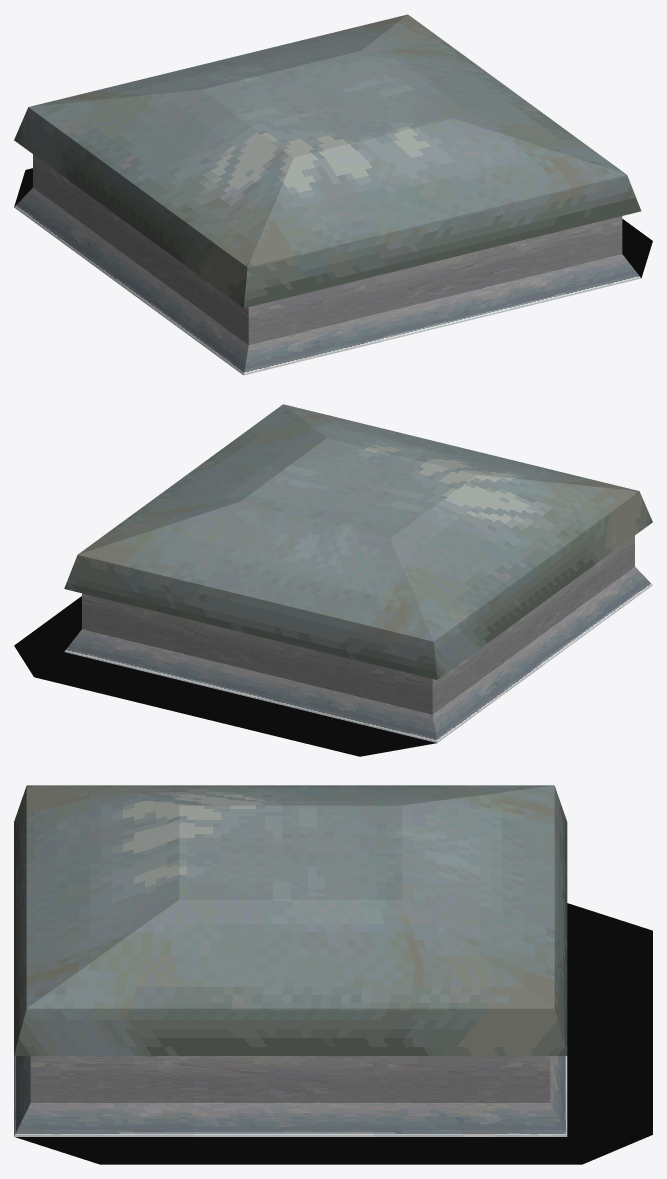
File: roofstuff14.obj
The picture shows the model from 3 angles, top to bottom: view 1: azimuth 30°, elevation 25°; view 2: azimuth 150°, elevation 25°; view 3: azimuth 270°, elevation 25°; orthographic projection. The views are drawn at different scales.
Visible parts, largest first — view 1: roofstuff14; view 2: roofstuff14; view 3: roofstuff14.
Boxes of the visible parts, <box> form: roofstuff14: <box>14,14,652,375</box>; roofstuff14: <box>14,404,652,756</box>; roofstuff14: <box>14,785,652,1164</box>.
Bounding box in the file's own units: 3.2 × 0.9551 × 3.31.
3 materials, 3 textured.
